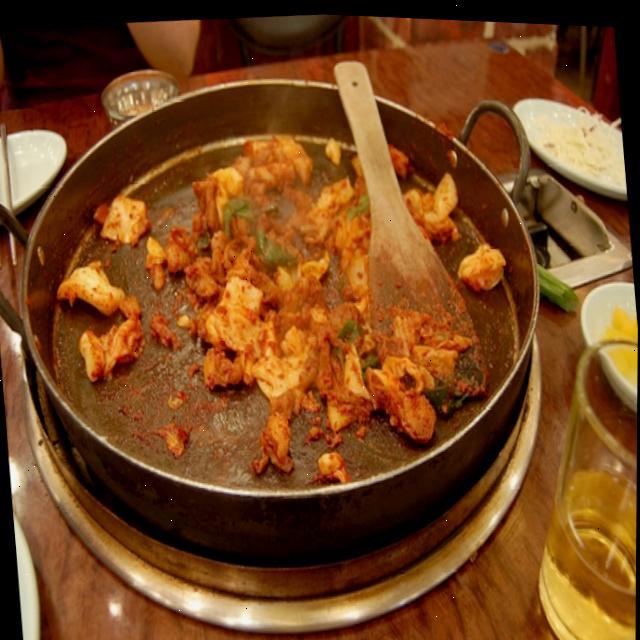鸡肉料理 含炸鸡: (25, 48, 531, 554)
